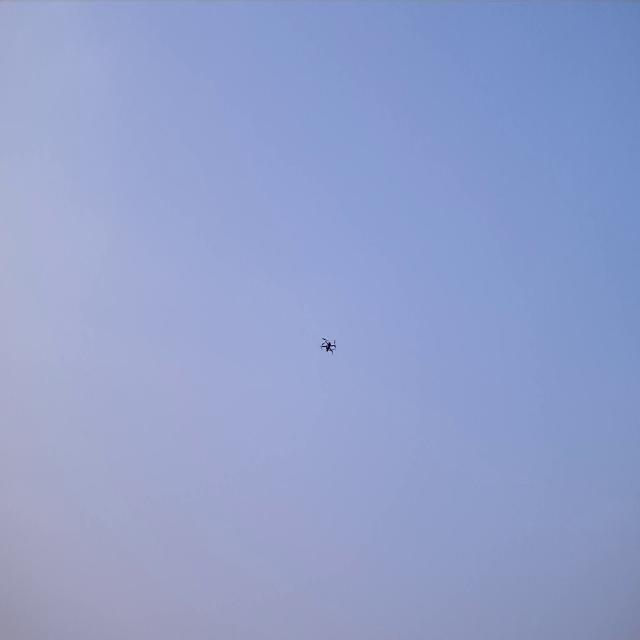UAV: (318, 334, 337, 358)
